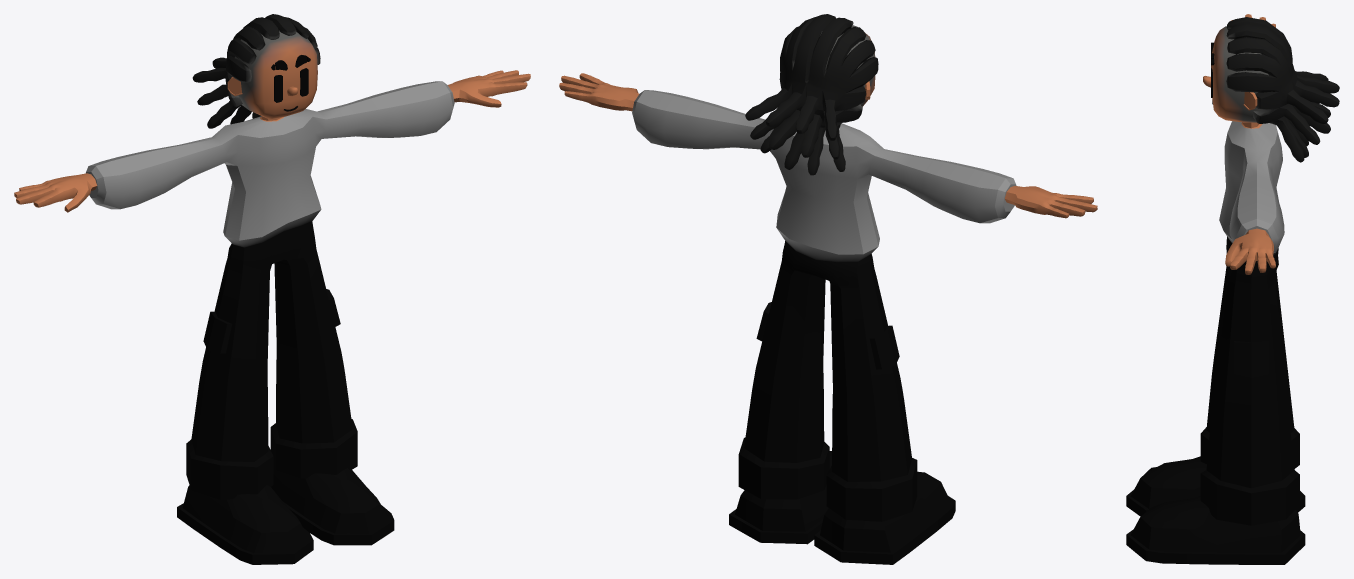
Rendered from PaqueraMasc.fbx.
The picture shows the model from 3 angles, left to right: view 1: azimuth 30°, elevation 25°; view 2: azimuth 150°, elevation 25°; view 3: azimuth 270°, elevation 25°; orthographic projection. The views are drawn at different scales.
Parts seen in each view (by area): view 1: PaqueraM; view 2: PaqueraM; view 3: PaqueraM.
Part boxes in pixels (box(x1,y1,x2,y2)): PaqueraM: box(14, 14, 530, 564); PaqueraM: box(559, 14, 1097, 564); PaqueraM: box(1126, 14, 1339, 564).
Size of the model in its own units: 184 by 168 by 64.63.
